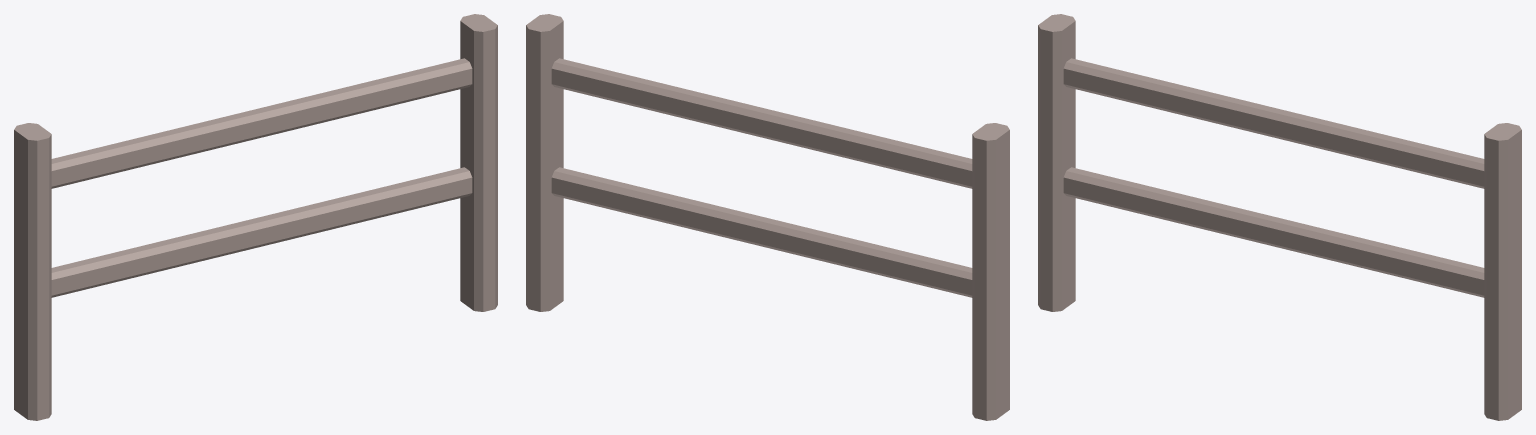
Rendered from 木の柵.fbx.
The picture shows the model from 3 angles, left to right: view 1: azimuth 30°, elevation 25°; view 2: azimuth 150°, elevation 25°; view 3: azimuth 330°, elevation 25°; orthographic projection.
Visible parts, largest first — view 1: Body; view 2: Body; view 3: Body.
Boxes of the visible parts, bbox=[...] form: Body: bbox=[14, 14, 497, 420]; Body: bbox=[526, 14, 1009, 420]; Body: bbox=[1038, 14, 1521, 420].
Bounding box in the file's own units: 158 × 90 × 12.
